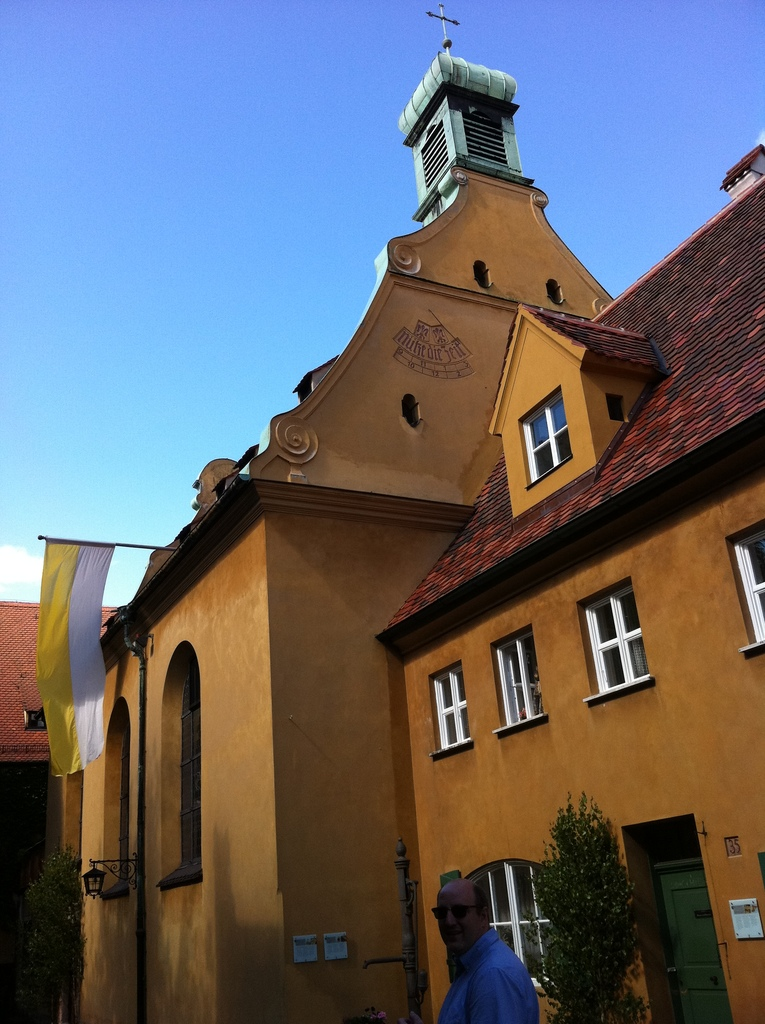Door: (658, 868, 741, 1022)
